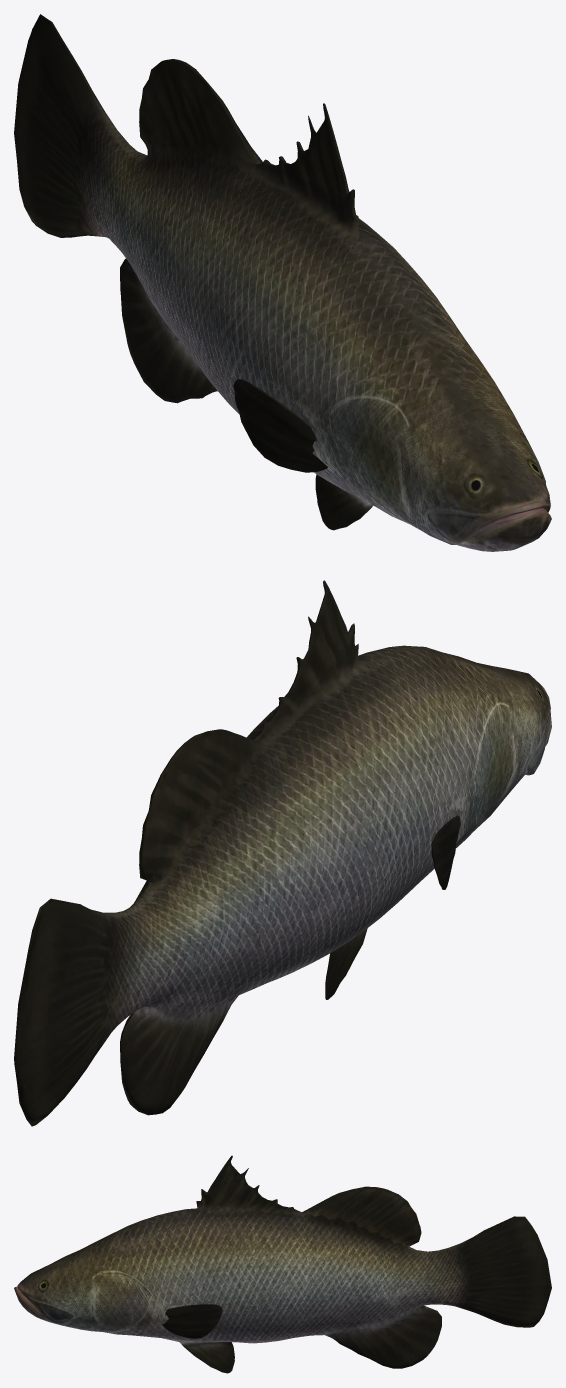
File: barramundi.glb
3 renders of one model, top to bottom at view 1: azimuth 30°, elevation 25°; view 2: azimuth 150°, elevation 25°; view 3: azimuth 270°, elevation 25°, orthographic. The views are drawn at different scales.
Visible parts, largest first — view 1: BarramundiFish; view 2: BarramundiFish; view 3: BarramundiFish.
Part boxes in pixels (x1=…): BarramundiFish: x1=14, y1=14, x2=551, y2=551; BarramundiFish: x1=14, y1=580, x2=551, y2=1126; BarramundiFish: x1=14, y1=1155, x2=551, y2=1373.
Size of the model in its own units: 0.1429 by 0.2875 by 0.6431.
1 material, 1 textured.
